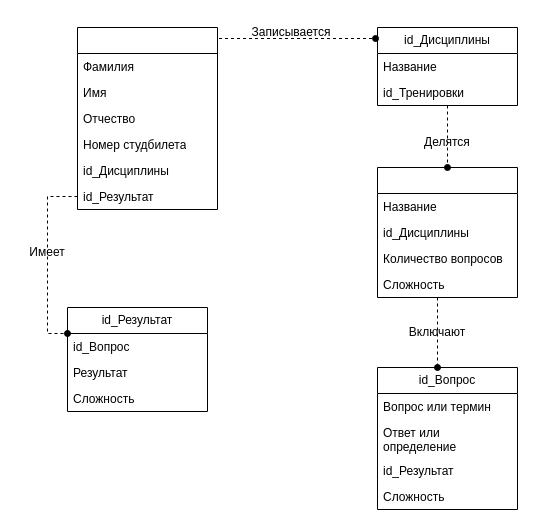
Image size: 535x529. Some labels were removed from this diagram. Here are the shapes that lost their labels. From the top down, the box of each, then its label:
(76, 26, 218, 210): id_Студент
(376, 166, 518, 298): id_Тренировка
